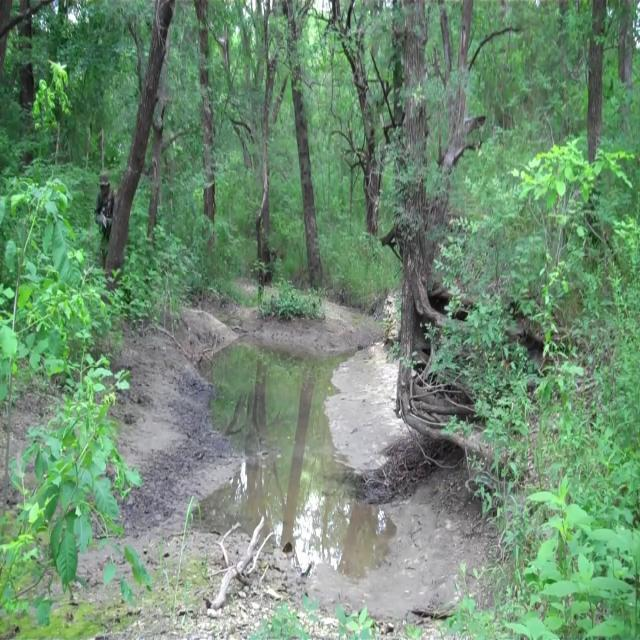MIL_Pax: (92, 172, 117, 267)
